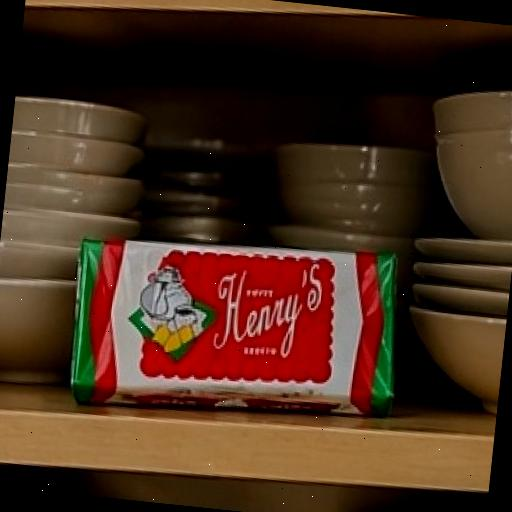henry-s: (18, 140, 476, 469)
